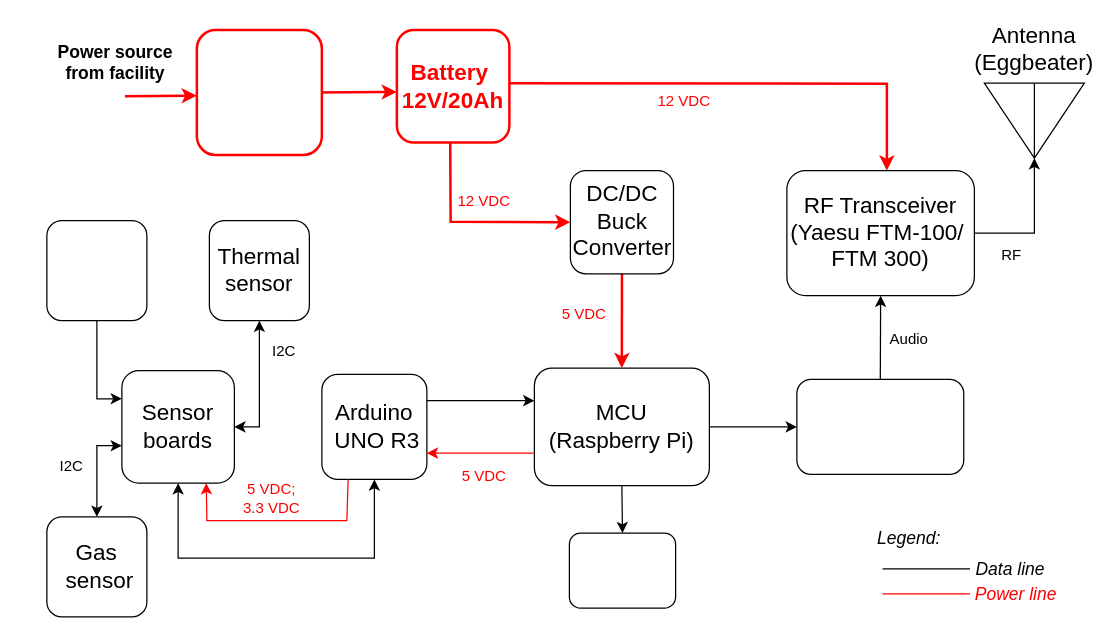
The diagram is 1115 pixels wide and 639 high, and some of its shapes have lost their labels. Here are the shapes that lost their labels. From the top down, the centre of each, then its label:
[258,92]: Charge & Protection System
[96,270]: Wind sensor
[880,426]: Digital modes interface (DigiRig)
[622,570]: Memory (SD card)
